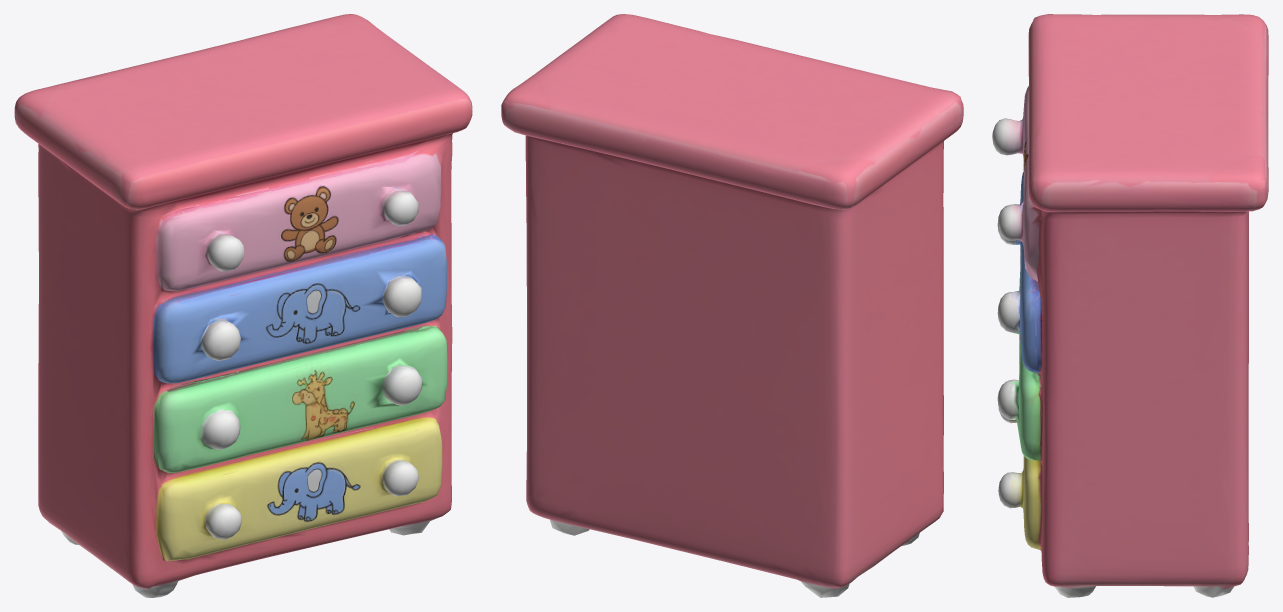
File: Meshy_AI_bebek_odası_için_bi_0112132015_texture.fbx
3 views of the same model, side by side, from view 1: azimuth 30°, elevation 25°; view 2: azimuth 150°, elevation 25°; view 3: azimuth 270°, elevation 25° (orthographic).
Visible parts, largest first — view 1: Mesh0; view 2: Mesh0; view 3: Mesh0.
Boxes of the visible parts, x1=… form: Mesh0: x1=14, y1=14, x2=472, y2=597; Mesh0: x1=501, y1=14, x2=963, y2=597; Mesh0: x1=992, y1=14, x2=1268, y2=597.
Size of the model in its own units: 158 by 191 by 109.
Materials: 1 (1 with a texture image).
